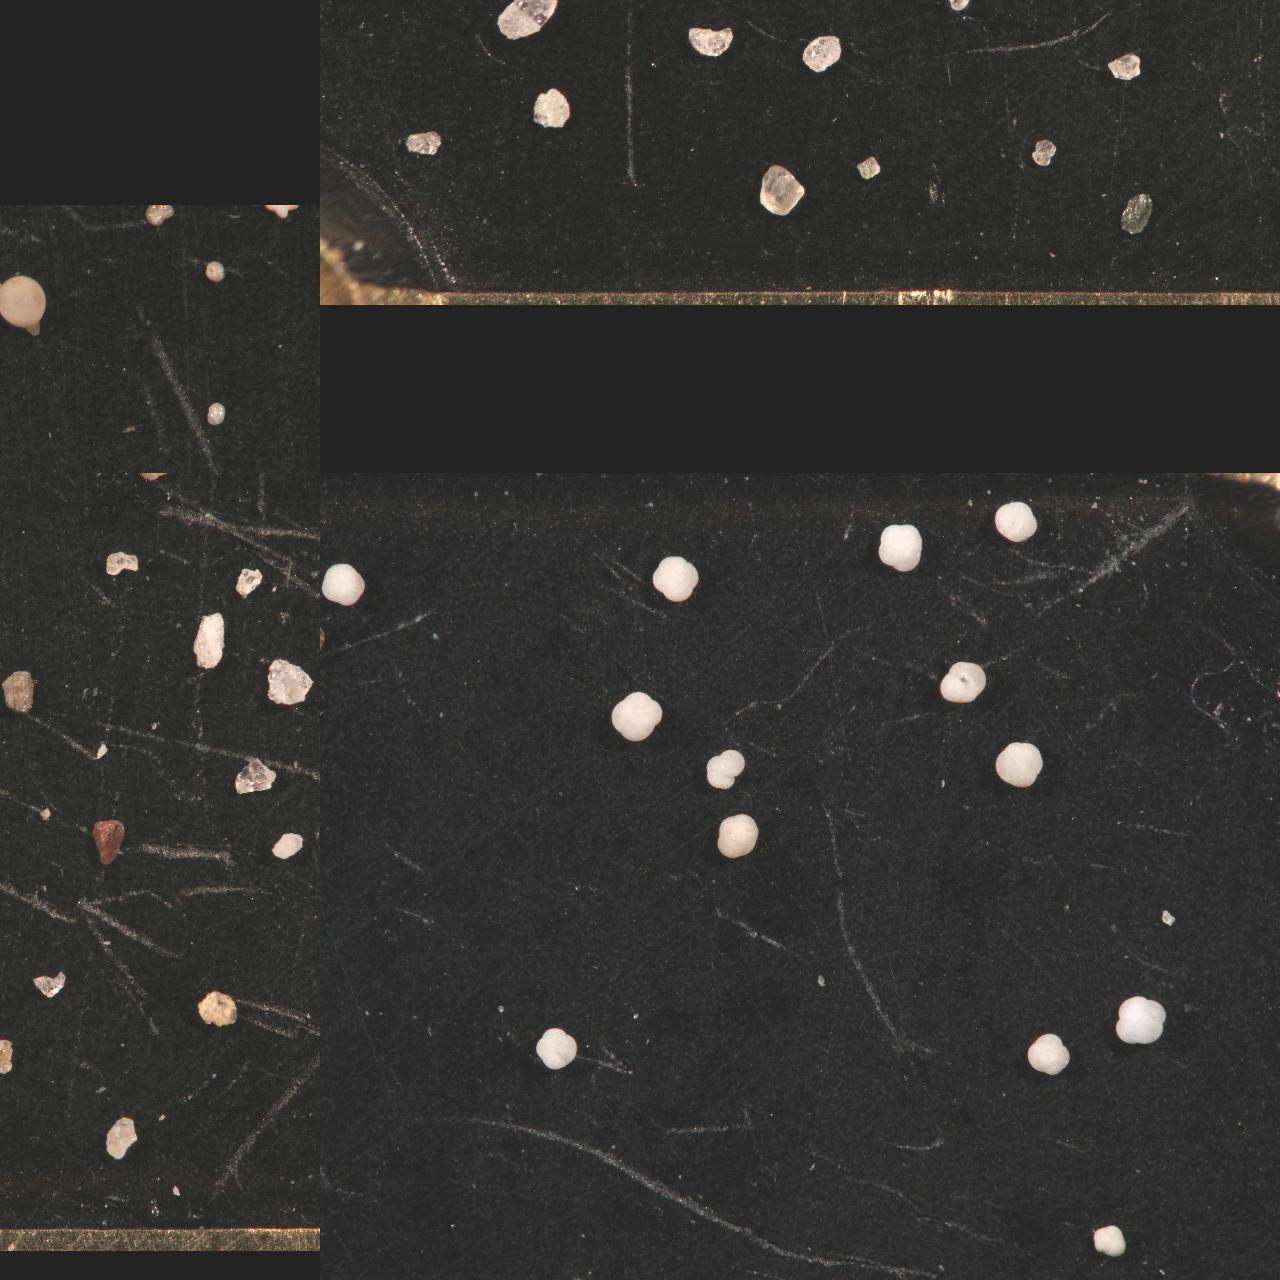Sediment: (757, 162, 806, 217), (495, 0, 561, 40), (595, 0, 672, 33), (266, 656, 316, 706), (192, 610, 227, 668), (591, 0, 667, 26), (1165, 0, 1233, 27), (726, 0, 806, 21), (90, 817, 125, 865), (801, 33, 844, 72), (18, 474, 79, 501), (531, 88, 572, 128), (0, 910, 30, 962), (233, 757, 277, 794), (1119, 191, 1155, 236), (104, 1115, 139, 1159), (688, 23, 735, 56), (410, 0, 461, 30), (0, 668, 35, 712), (825, 0, 878, 28), (196, 989, 238, 1024), (0, 1042, 30, 1090), (1055, 0, 1097, 33), (1107, 49, 1142, 81), (404, 129, 443, 156), (481, 0, 532, 19), (813, 0, 855, 23), (272, 830, 306, 858), (34, 969, 68, 998), (236, 566, 265, 598), (105, 549, 142, 573), (452, 0, 499, 19), (0, 731, 20, 775), (1029, 137, 1058, 165), (0, 1126, 21, 1165), (0, 937, 19, 980), (1055, 0, 1091, 21), (0, 1073, 19, 1112), (0, 754, 16, 798), (138, 474, 179, 491), (0, 982, 18, 1023), (0, 872, 18, 912), (855, 154, 883, 178), (0, 544, 20, 578), (676, 0, 704, 23), (0, 622, 19, 658), (0, 525, 18, 561), (945, 0, 974, 21), (1054, 0, 1091, 16), (0, 828, 19, 858), (0, 1090, 18, 1122), (0, 1036, 15, 1073), (0, 884, 18, 913), (1214, 0, 1245, 16), (626, 0, 654, 18), (0, 474, 21, 496), (979, 0, 1006, 16), (0, 625, 14, 653), (0, 1001, 12, 1034), (0, 847, 16, 871), (90, 741, 110, 760), (864, 0, 892, 13), (0, 670, 15, 693), (0, 1006, 13, 1030), (0, 535, 13, 559), (430, 0, 459, 11)
calcareous: (0, 231, 38, 313), (0, 273, 46, 338), (0, 302, 25, 358), (0, 390, 25, 443), (0, 423, 18, 465), (0, 377, 19, 416), (143, 204, 177, 225), (0, 444, 23, 474), (203, 259, 227, 281), (204, 402, 229, 424), (0, 268, 14, 297), (0, 458, 15, 474)
planktic: (608, 688, 666, 742), (1114, 993, 1169, 1046), (993, 740, 1046, 787), (878, 523, 925, 572), (652, 554, 701, 600), (714, 810, 760, 858), (320, 560, 368, 606), (1026, 1030, 1073, 1076), (532, 1026, 579, 1070), (320, 745, 350, 812), (993, 499, 1040, 543), (939, 660, 987, 702), (704, 747, 747, 789), (1091, 1223, 1126, 1257), (320, 615, 343, 662), (320, 1146, 341, 1191)
